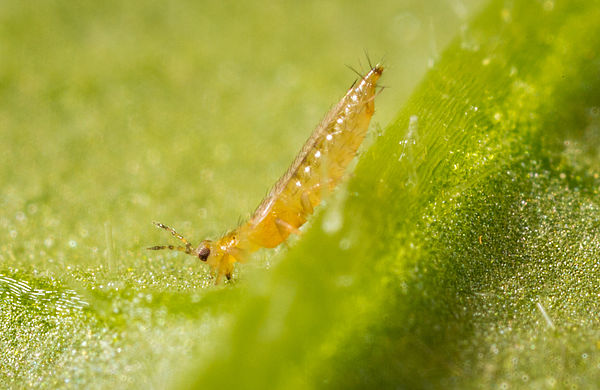Thrips: (151, 66, 408, 288)
